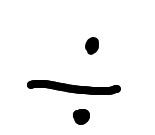div: (27, 37, 121, 125)
